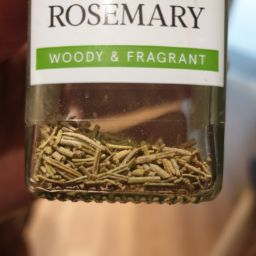Rosemary: (21, 10, 243, 239), (50, 107, 212, 209), (109, 125, 212, 215), (48, 119, 131, 225)
